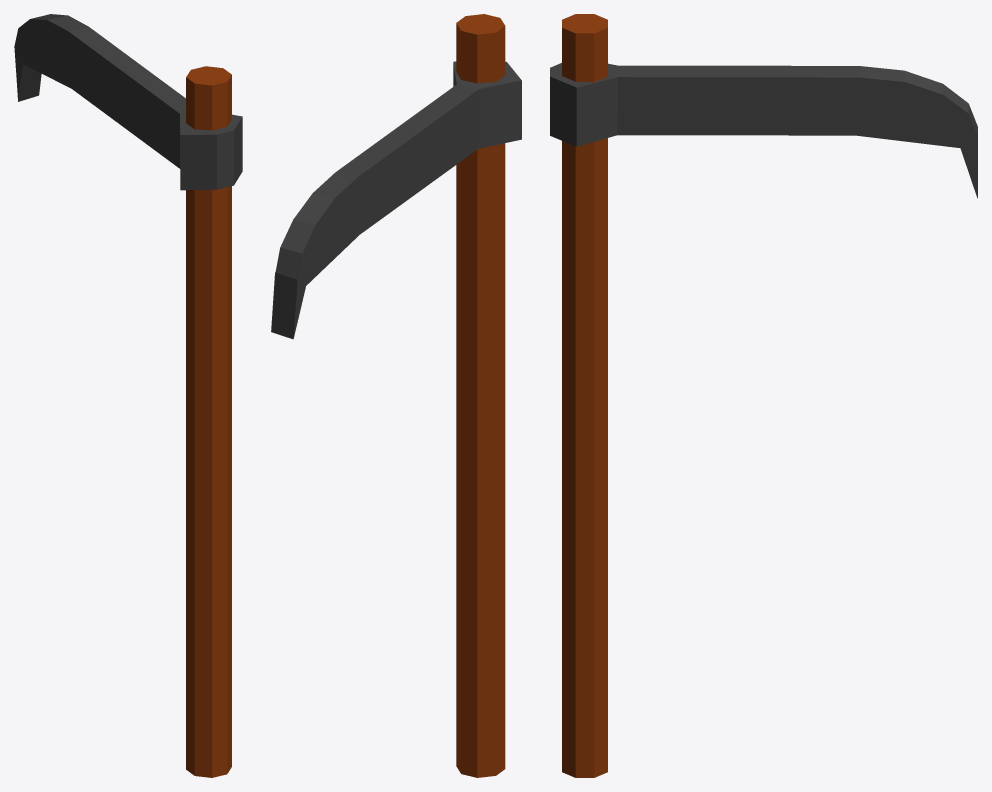
The model's file is foice.glb.
The picture shows the model from 3 angles, left to right: view 1: azimuth 30°, elevation 25°; view 2: azimuth 150°, elevation 25°; view 3: azimuth 270°, elevation 25°; orthographic projection. The views are drawn at different scales.
Parts seen in each view (by area): view 1: Cube; view 2: Cube; view 3: Cube.
Part boxes in pixels (x1=…): Cube: x1=14, y1=14, x2=242, y2=777; Cube: x1=271, y1=14, x2=521, y2=777; Cube: x1=550, y1=14, x2=977, y2=777.
Size of the model in its own units: 3.4 by 35.65 by 18.56.
